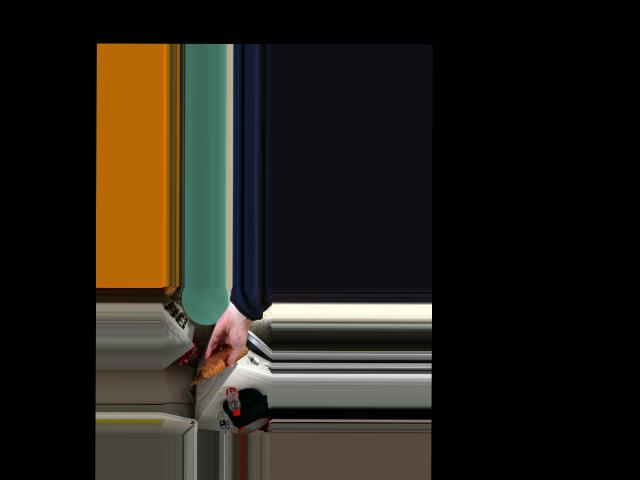sweet_potato: (210, 339, 246, 371)
